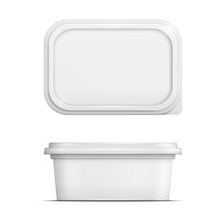plastic_box: (38, 10, 187, 121), (39, 133, 188, 207)
